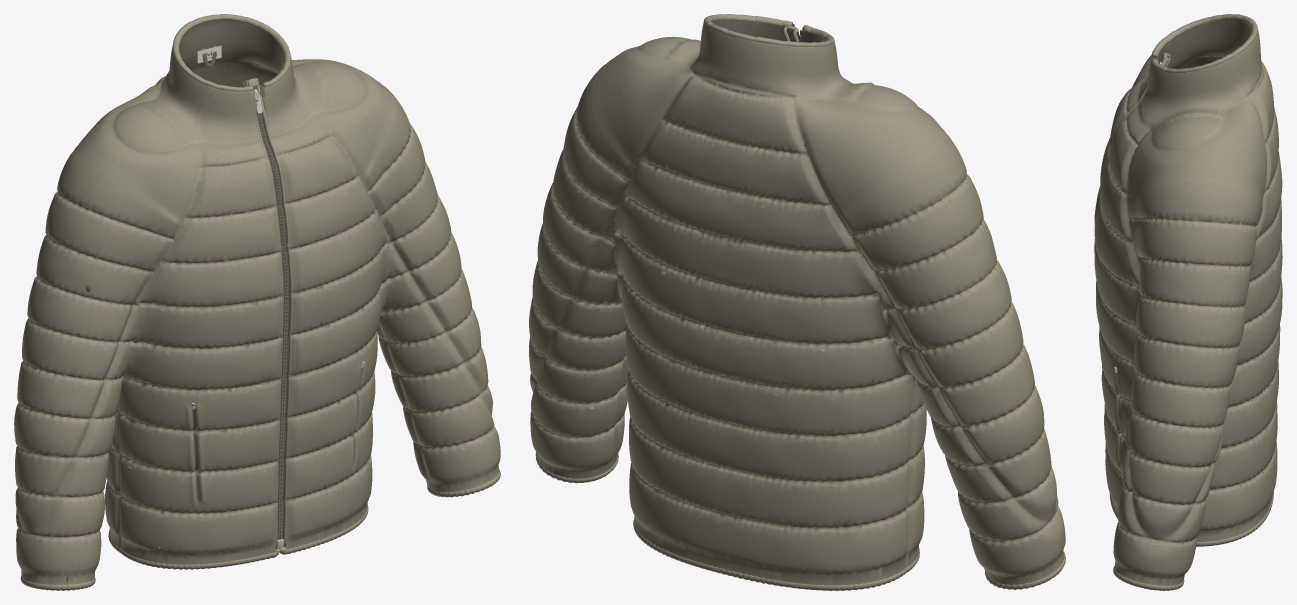
File: chaqueta-salvia.glb
The picture shows the model from 3 angles, left to right: view 1: azimuth 30°, elevation 25°; view 2: azimuth 150°, elevation 25°; view 3: azimuth 270°, elevation 25°; orthographic projection. The views are drawn at different scales.
Visible parts, largest first — view 1: tela, ribetes, forro, espiral, cinta; view 2: tela, ribetes, forro; view 3: tela, forro, ribetes.
Part boxes in pixels (x1=…): tela: x1=14, y1=45, x2=500, y2=584; ribetes: x1=20, y1=14, x2=500, y2=590; forro: x1=179, y1=19, x2=285, y2=460; espiral: x1=253, y1=87, x2=288, y2=539; cinta: x1=243, y1=78, x2=289, y2=539; tela: x1=529, y1=22, x2=1065, y2=585; ribetes: x1=535, y1=14, x2=1065, y2=590; forro: x1=711, y1=19, x2=825, y2=42; tela: x1=1094, y1=28, x2=1282, y2=585; forro: x1=1147, y1=18, x2=1251, y2=84; ribetes: x1=1108, y1=14, x2=1273, y2=590.
Bounding box in the file's own units: 0.7967 × 0.7818 × 0.2864.
8 materials, 2 textured.
